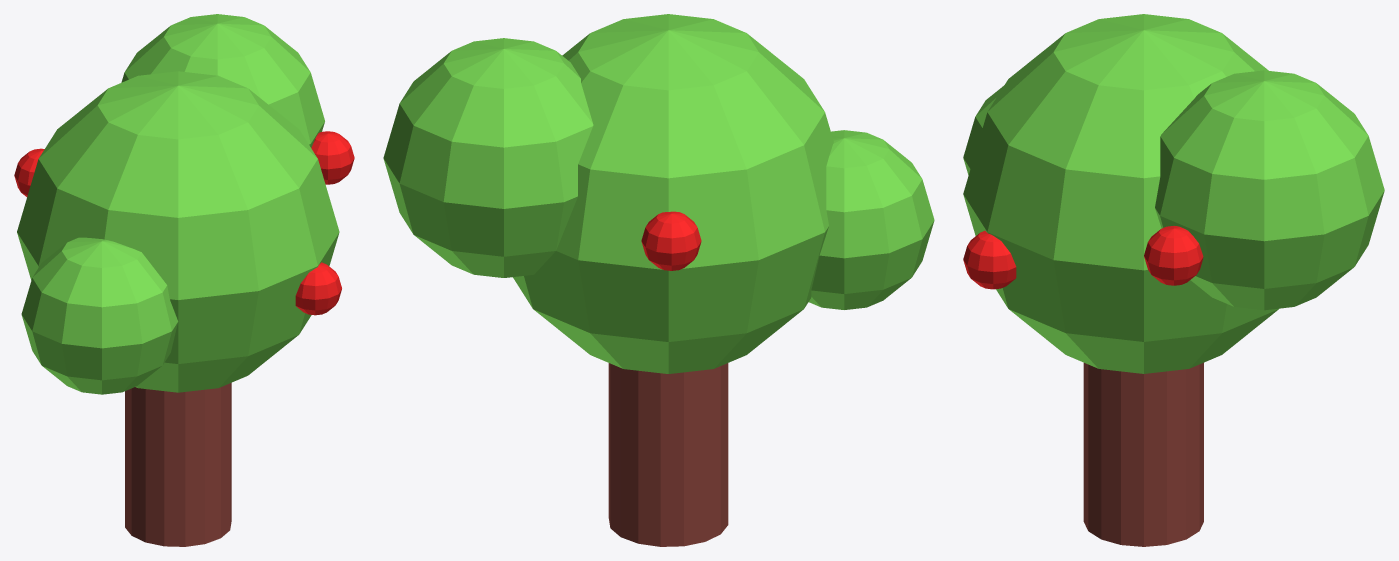
The model's file is arvore.glb.
The picture shows the model from 3 angles, left to right: view 1: azimuth 30°, elevation 25°; view 2: azimuth 150°, elevation 25°; view 3: azimuth 270°, elevation 25°; orthographic projection. The views are drawn at different scales.
Parts seen in each view (by area): view 1: copa, copa-frente, tronco, copa-lado, fruta-1, fruta-3, fruta-2; view 2: copa, copa-lado, tronco, copa-frente, fruta-2; view 3: copa, copa-lado, tronco, fruta-3, fruta-1, copa-frente.
Part boxes in pixels (x1,y1,x2,y2): copa: (17,71,339,392); copa-frente: (21,237,178,394); tronco: (125,383,231,546); copa-lado: (121,14,324,147); fruta-1: (295,262,341,315); fruta-3: (311,131,354,184); fruta-2: (14,148,44,196); copa: (513,14,833,373); copa-lado: (383,38,593,277); tronco: (608,363,728,546); copa-frente: (809,130,934,309); fruta-2: (641,211,701,270); copa: (963,14,1278,373); copa-lado: (1155,70,1384,310); tronco: (1083,362,1203,546); fruta-3: (1144,226,1203,285); fruta-1: (963,231,1016,289); copa-frente: (963,86,1003,175).
Bounding box in the file's own units: 8 × 9 × 7.
Materials: 7 (7 with a texture image).
